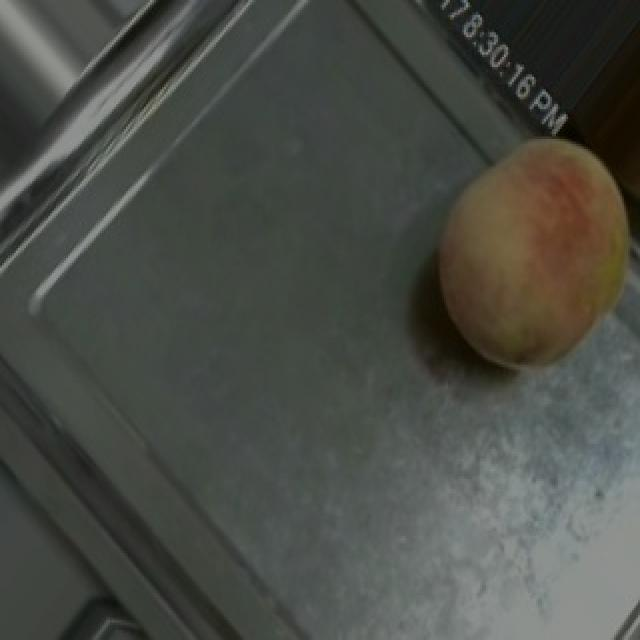Fruit: (386, 100, 640, 404)
